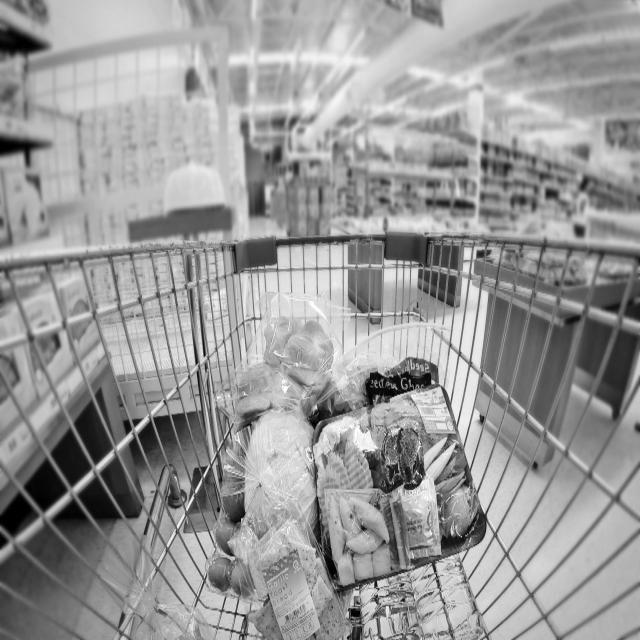bap cai: (242, 406, 321, 534)
bread: (244, 523, 349, 640)
egg: (209, 462, 265, 604)
grape: (361, 338, 442, 405)
